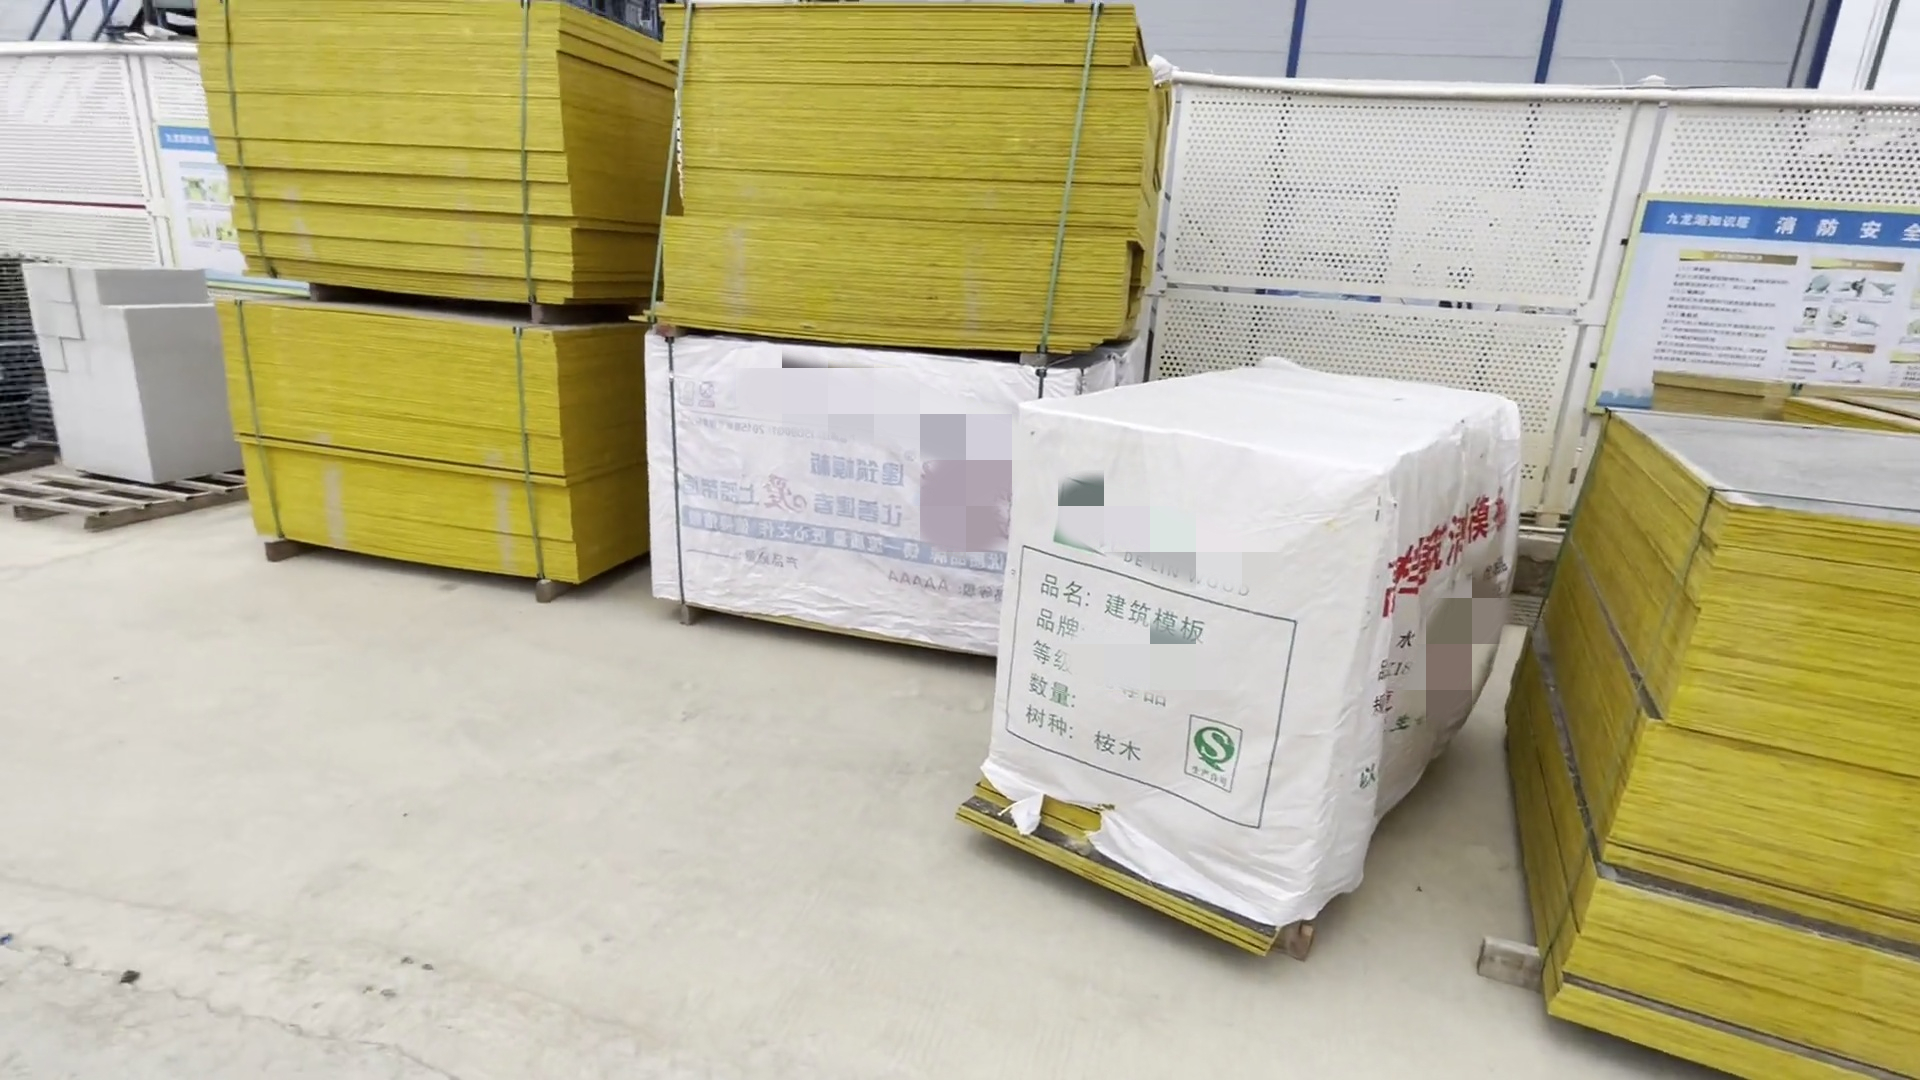board: (171, 12, 1154, 625)
